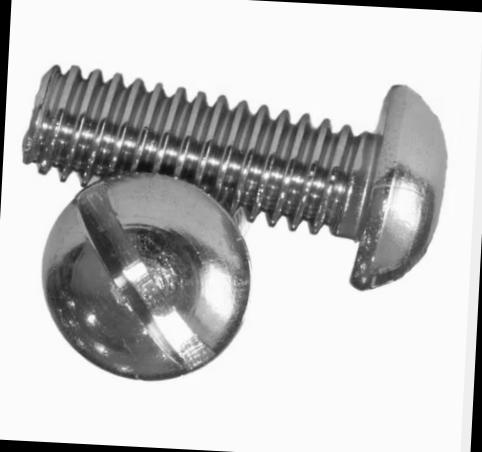screw: (35, 171, 253, 386)
